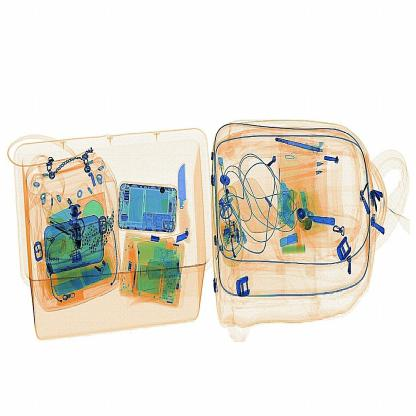wrench: (172, 146, 200, 255)
